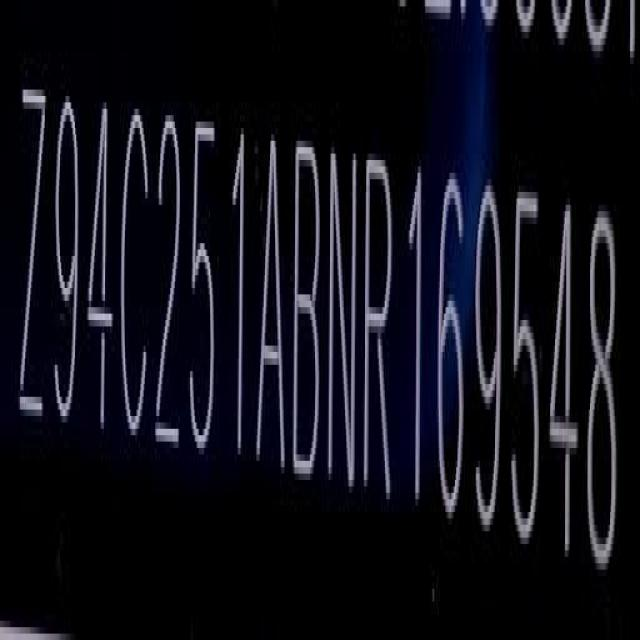1: (225, 123, 247, 455), (409, 161, 427, 503)
2: (154, 114, 185, 453)
4: (546, 190, 580, 548), (87, 90, 113, 436)
5: (512, 166, 542, 543), (188, 109, 220, 460)
6: (438, 166, 468, 514)
8: (584, 218, 617, 567)
9: (473, 180, 505, 531), (54, 90, 82, 436)
A: (254, 135, 289, 474)
B: (290, 135, 323, 479)
C: (120, 104, 152, 448)
N: (327, 147, 358, 481)
R: (358, 150, 398, 502)
Z: (15, 69, 47, 429)
